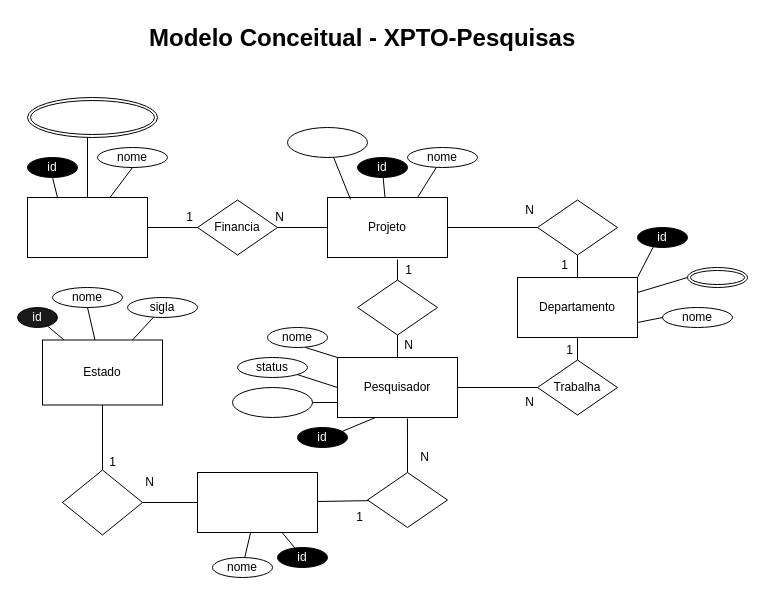
Image size: 765x595. Some labels were removed from this diagram. The shapes that lost their labels are listed below. From the top down, each one's box as (x1, y1, x2, y2) in pixels, then its label:
(26, 96, 158, 138): valor_financiamento
(286, 126, 368, 158): valor_projeto
(26, 196, 148, 258): Fonte Financiadora
(536, 199, 618, 255): Gerencia
(686, 266, 748, 288): filial
(356, 279, 438, 335): Participa
(232, 386, 312, 418): valor_bolsa
(62, 469, 142, 535): Pertence
(196, 472, 318, 532): Cidade
(366, 472, 448, 528): Mora_em
